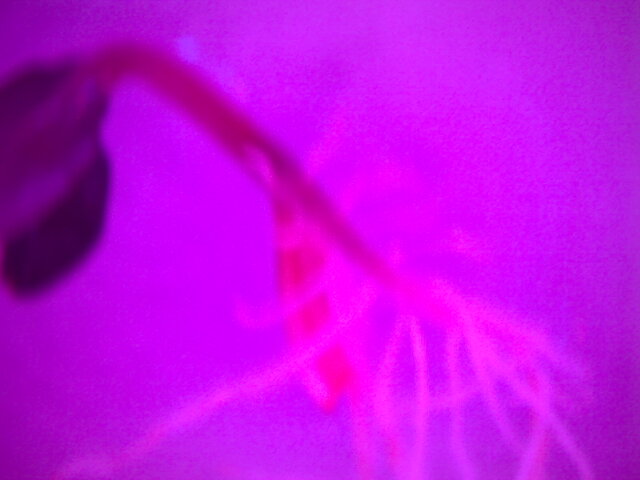seedling: (12, 26, 547, 460)
